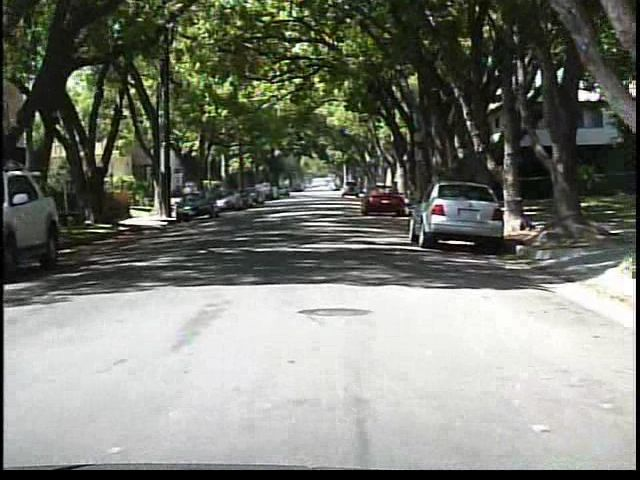person: (180, 180, 199, 213)
